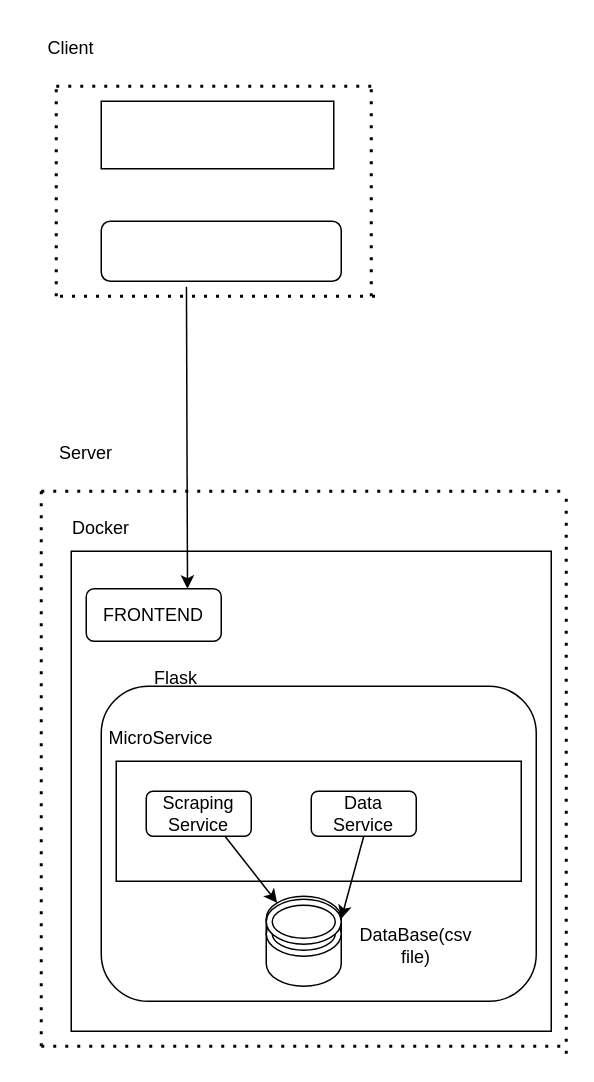
This 594x1082 diagram has some shape labels left out. The shapes that lost their labels are listed below. From the top down, each one's centre as x and y in pixels, then its label:
At [217,134]: "web browser".
At [220,250]: "Web Server(NGINX)".
